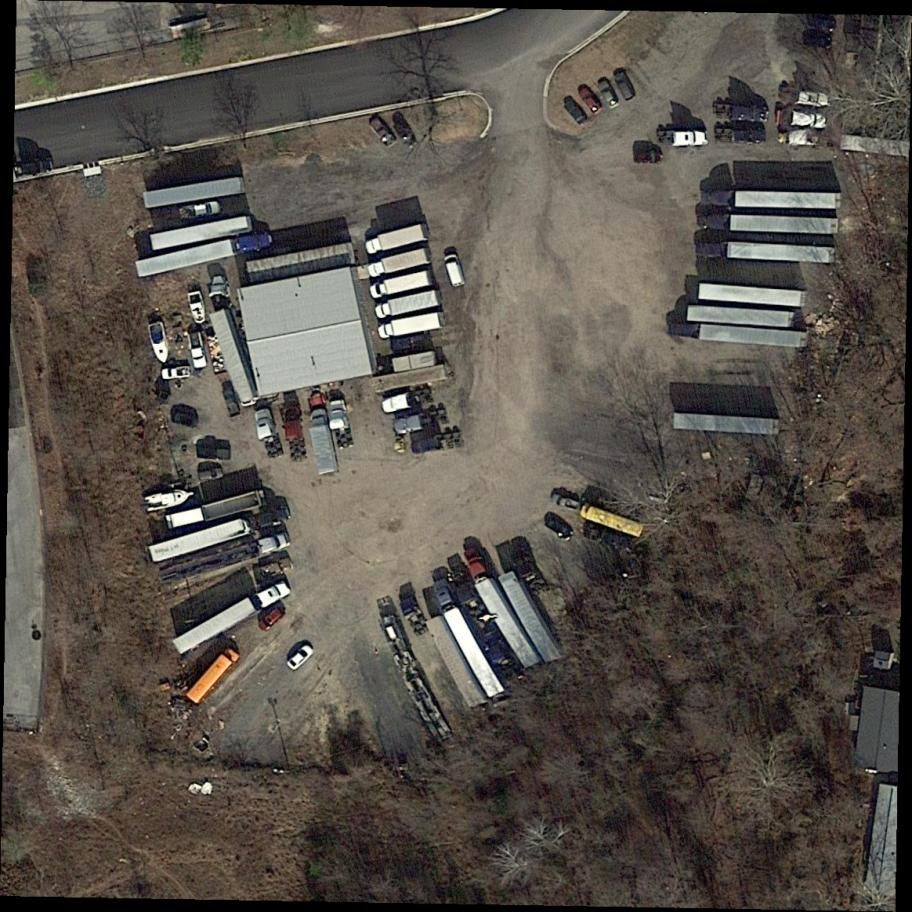large-vehicle: (458, 547, 543, 673), (170, 580, 294, 657), (432, 579, 507, 700), (157, 531, 294, 588), (131, 228, 273, 281), (668, 320, 810, 350), (182, 642, 244, 708), (695, 188, 842, 209), (699, 242, 837, 263), (577, 501, 647, 542), (697, 213, 839, 233), (365, 246, 434, 280), (307, 406, 340, 474), (362, 222, 429, 255), (369, 268, 434, 301), (375, 310, 448, 339), (375, 291, 439, 318)
ship: (141, 483, 200, 515), (147, 321, 173, 365)
small-vehicle: (438, 251, 470, 292), (367, 114, 402, 151), (542, 511, 577, 543), (176, 200, 226, 221), (594, 74, 624, 109), (559, 95, 590, 127), (389, 114, 418, 148), (577, 84, 607, 116), (286, 642, 317, 672), (186, 289, 210, 326), (613, 68, 639, 101), (256, 605, 286, 633), (548, 490, 582, 514), (187, 331, 209, 368), (807, 15, 838, 34), (223, 387, 241, 418), (161, 365, 192, 381), (635, 150, 665, 164), (804, 36, 831, 48), (198, 468, 223, 480)
